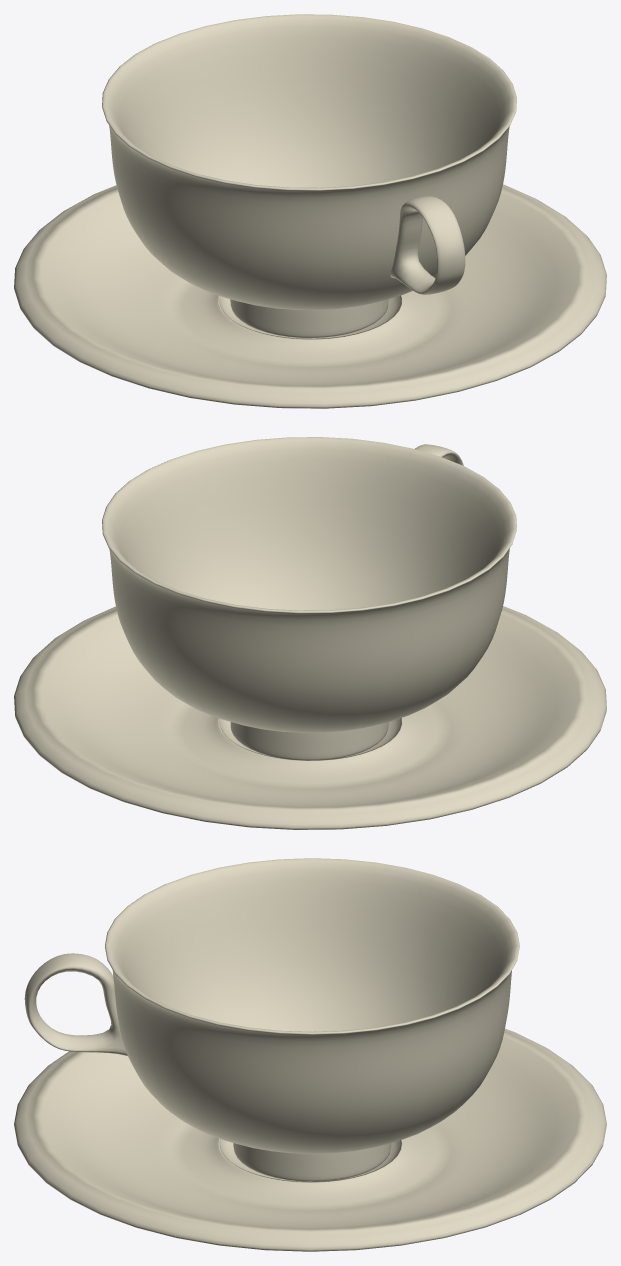
File: bardakNEW.glb
3 views of the same model, one above another, from view 1: azimuth 30°, elevation 25°; view 2: azimuth 150°, elevation 25°; view 3: azimuth 270°, elevation 25° (orthographic).
Visible parts, largest first — view 1: cup, saucer; view 2: cup, saucer; view 3: cup, saucer.
Part boxes in pixels (x1,y1,x2,y2): cup: (102,14,516,337); saucer: (14,184,606,408); cup: (102,437,516,759); saucer: (14,606,606,829); cup: (24,858,519,1181); saucer: (14,1028,606,1251).
Bounding box in the file's own units: 0.15 × 0.0626 × 0.1499.
